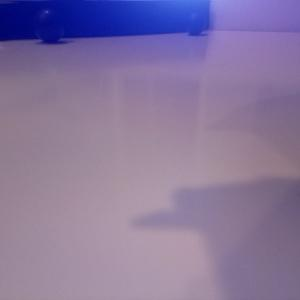dead_ball: (32, 8, 66, 42), (185, 11, 206, 35)
